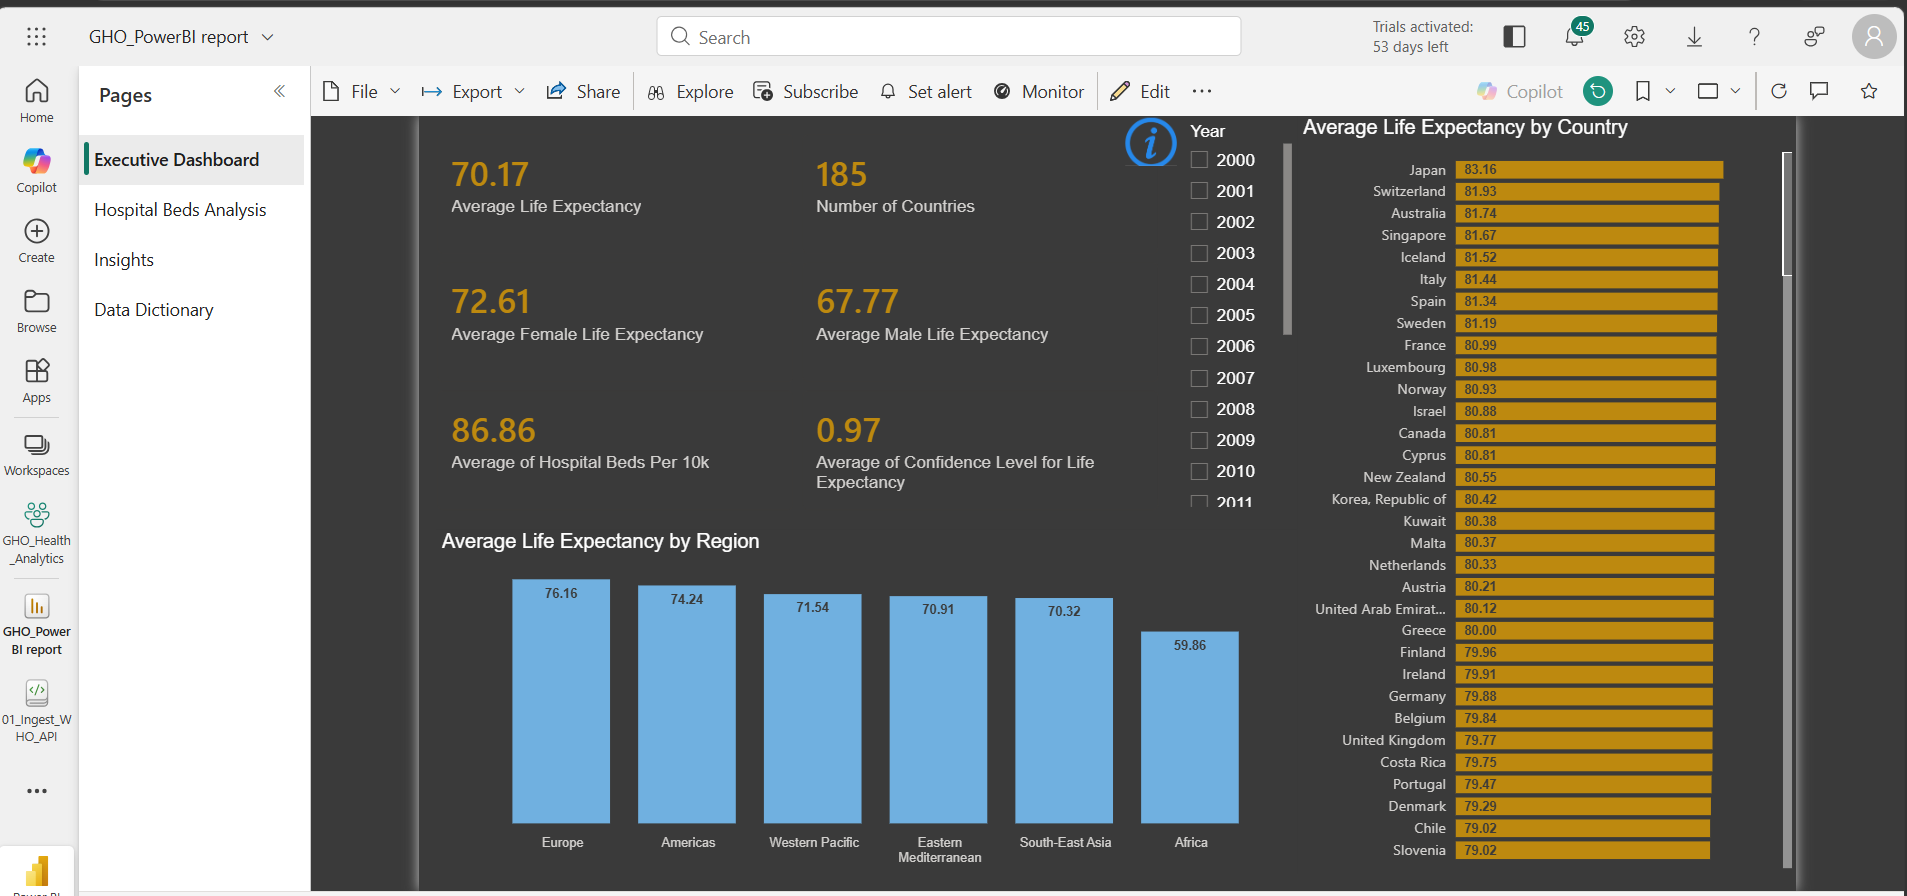

The dashboard page shown, as its layout file describes it:
{"tool":"powerbi","page":{"name":"Executive Dashboard","canvas":[1280,720],"ordinal":0},"visuals":[{"type":"clusteredColumnChart","title":"Average Life Expectancy by Region","fields":{"Category":["dim_country.Region"],"Y":["Avg(fact_life_expectancy.LifeExpectancy)"]},"box":[16,384,800,320],"z":0},{"type":"clusteredBarChart","title":"Average Life Expectancy by Country","fields":{"Category":["dim_country.CountryName"],"Y":["Avg(fact_life_expectancy.LifeExpectancy)"]},"box":[816,0,464,704],"z":1000},{"type":"slicer","fields":{"Values":["fact_life_expectancy.Year"]},"box":[704,0,112,368],"z":2000},{"type":"cardVisual","fields":{"Data":["_Measures.AvgLifeExpectance","Count(dim_country.CountryName)","_Measures.AvgFemaleLifeExpectancy","_Measures.AvgMaleLifeExpectancy","Avg(fact_hospital_beds.HospitalBedsPer10k)","Avg(fact_life_expectancy.ConfidenceRange)"]},"box":[0,0,704,384],"z":3000},{"type":"image","box":[656,0,48,48],"z":3002}]}

Visuals, with their boxes on the page's 1280x720 design canvas (x1, y1, x2, y2). These are canvas units, not pixel positions in the 1907x896 screenshot, which may show the page scaled, cropped or inside an application window:
"Average Life Expectancy by Region" clusteredColumnChart: <region>16, 384, 816, 704</region>
"Average Life Expectancy by Country" clusteredBarChart: <region>816, 0, 1280, 704</region>
slicer - fact_life_expectancy.Year: <region>704, 0, 816, 368</region>
cardVisual - _Measures.AvgLifeExpectance x Count(dim_country.CountryName): <region>0, 0, 704, 384</region>
image: <region>656, 0, 704, 48</region>
